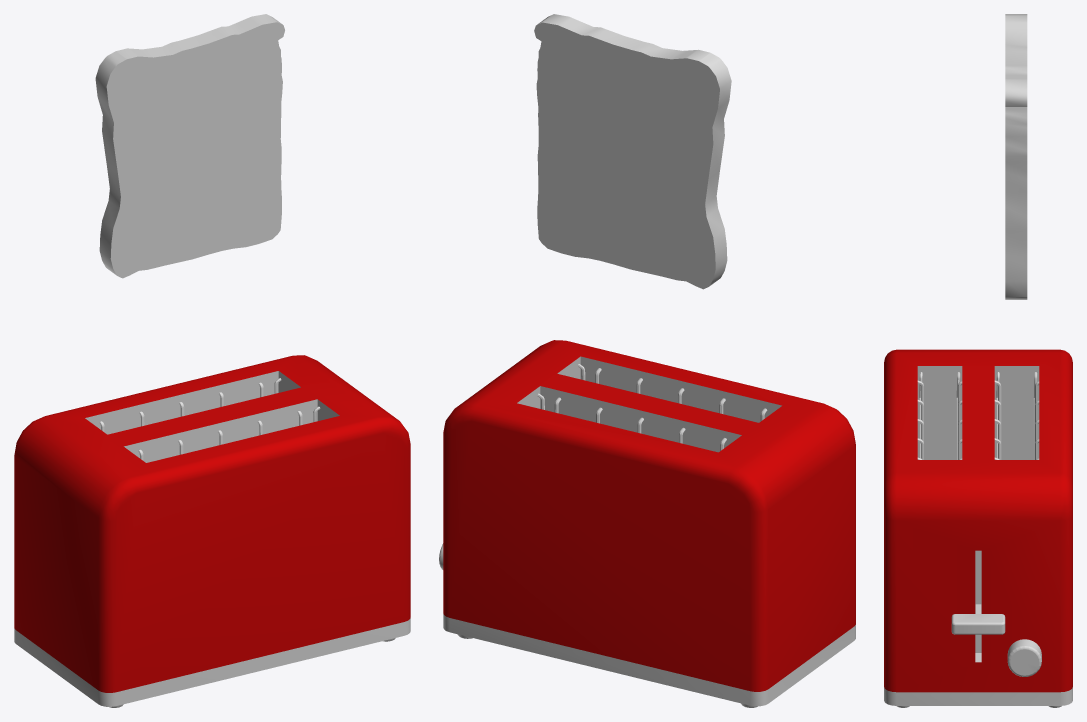
The model's file is Toaster.fbx.
The picture shows the model from 3 angles, left to right: view 1: azimuth 30°, elevation 25°; view 2: azimuth 150°, elevation 25°; view 3: azimuth 270°, elevation 25°; orthographic projection. The views are drawn at different scales.
Parts seen in each view (by area): view 1: Toaster, Toast; view 2: Toaster, Toast; view 3: Toaster, Toast.
Boxes of the visible parts, bbox=[...] form: Toaster: bbox=[14, 355, 410, 707]; Toast: bbox=[95, 14, 284, 278]; Toaster: bbox=[439, 340, 855, 707]; Toast: bbox=[534, 14, 731, 289]; Toaster: bbox=[884, 349, 1072, 707]; Toast: bbox=[1005, 14, 1027, 299].
Size of the model in its own units: 25.25 by 42.83 by 12.44.
